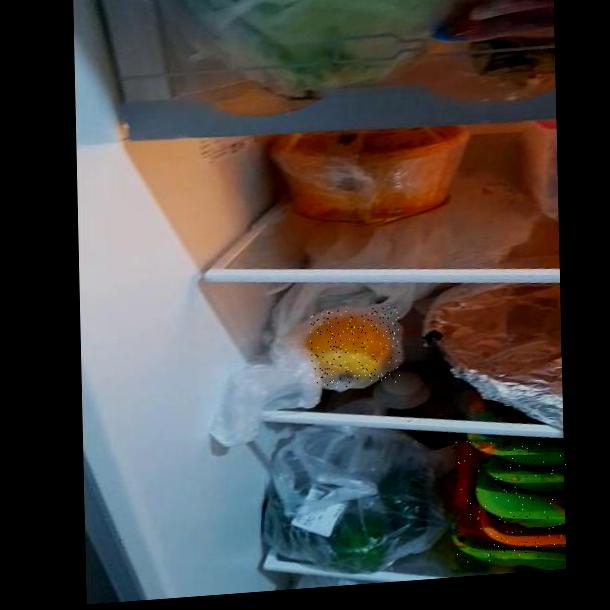chicken: (453, 432, 568, 563)
lemon: (310, 306, 400, 389)
